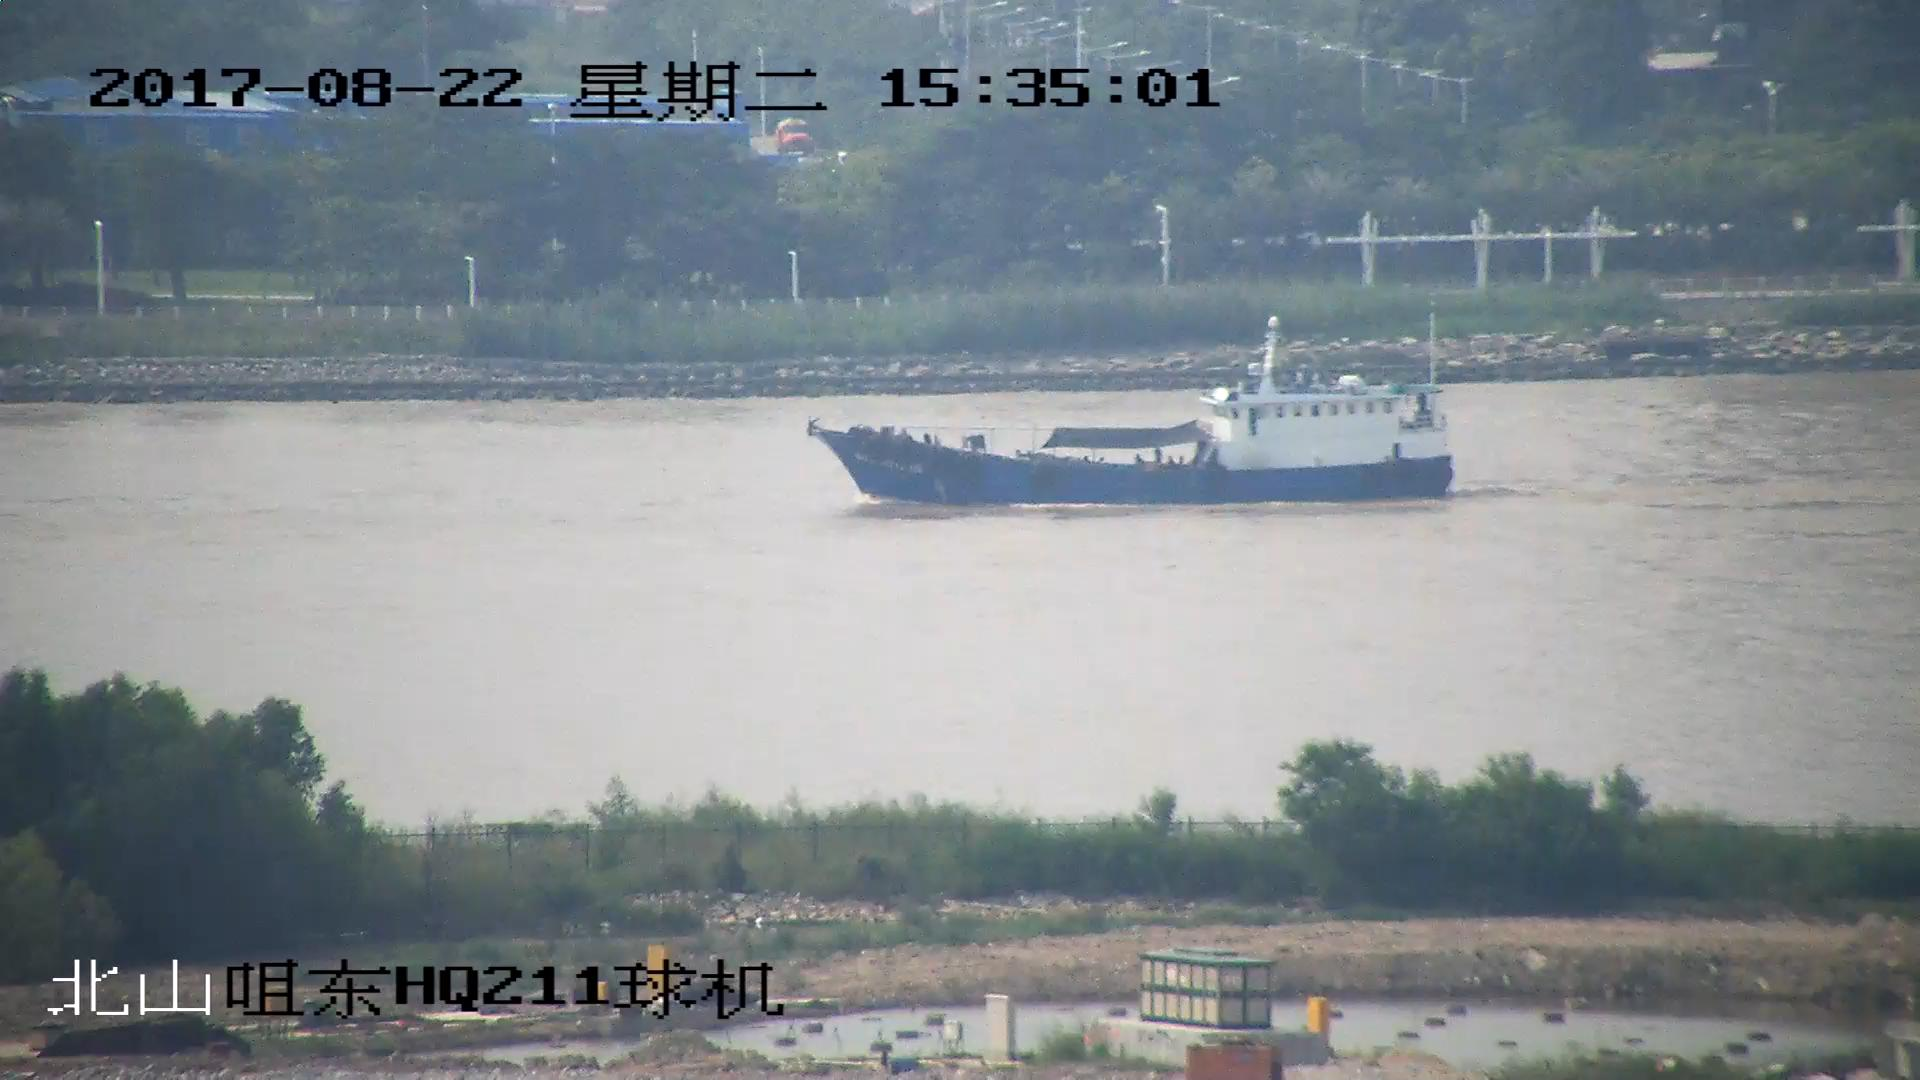fishing boat: (813, 322, 1461, 505)
